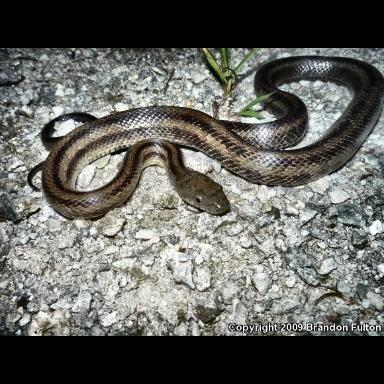snake: (39, 56, 384, 222)
